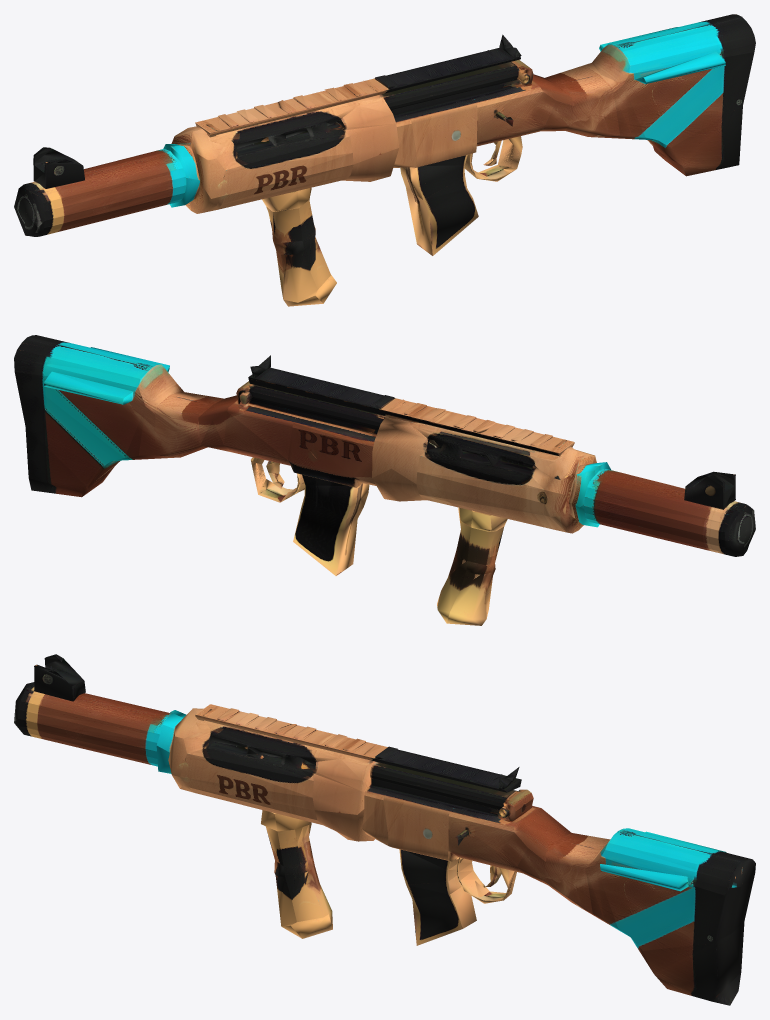
File: driftwood-scattergun.glb
3 views of the same model, one above another, from view 1: azimuth 30°, elevation 25°; view 2: azimuth 150°, elevation 25°; view 3: azimuth 330°, elevation 25° (orthographic).
Size of the model in its own units: 1 by 0.2832 by 0.1255.
1 material, 1 textured.
